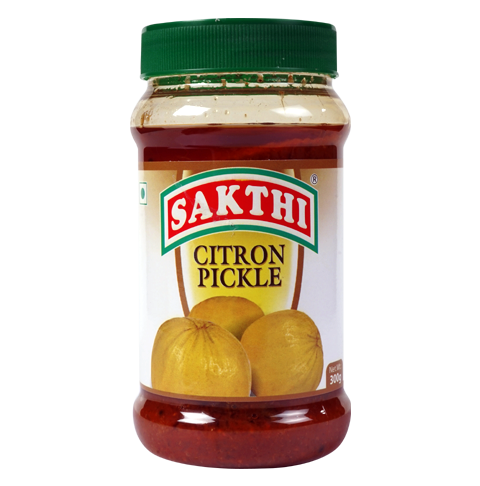VEG: (138, 180, 147, 203)
